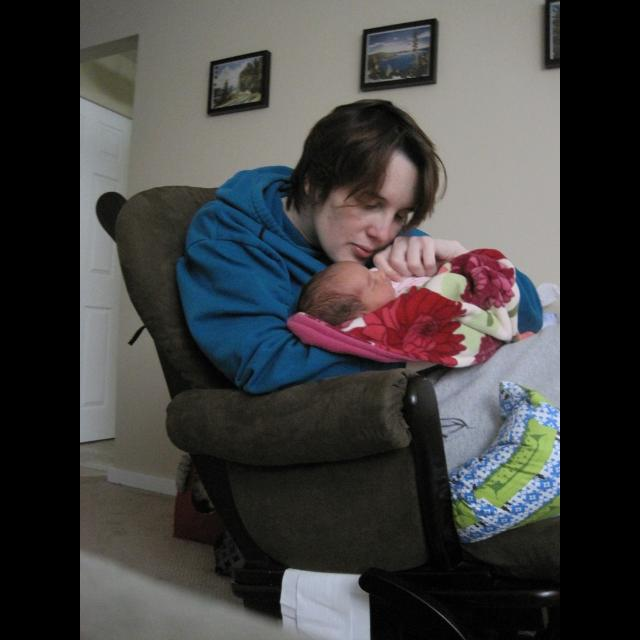Flower: (359, 284, 465, 370)
